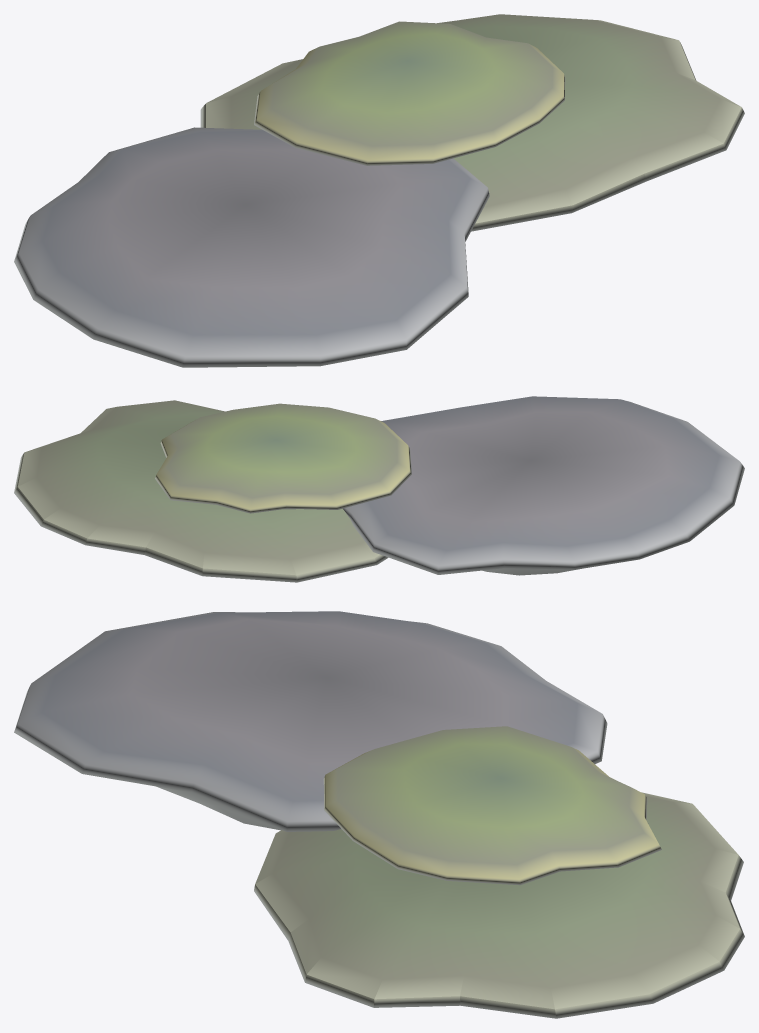
3 views of the same model, one above another, from view 1: azimuth 30°, elevation 25°; view 2: azimuth 150°, elevation 25°; view 3: azimuth 270°, elevation 25° (orthographic). The views are drawn at different scales.
Visible parts, largest first — view 1: G:\FFXIV-MapTools\exports\n4f6\bg\ex3\01_nvt_n4\fld\n4f6\bgp (×2); view 2: G:\FFXIV-MapTools\exports\n4f6\bg\ex3\01_nvt_n4\fld\n4f6\bgp (×3); view 3: G:\FFXIV-MapTools\exports\n4f6\bg\ex3\01_nvt_n4\fld\n4f6\bgp (×2).
Part boxes in pixels (x1,y1,x2,y2): G:\FFXIV-MapTools\exports\n4f6\bg\ex3\01_nvt_n4\fld\n4f6\bgp (×2): (14, 14, 744, 367); G:\FFXIV-MapTools\exports\n4f6\bg\ex3\01_nvt_n4\fld\n4f6\bgp (×3): (14, 396, 744, 582); G:\FFXIV-MapTools\exports\n4f6\bg\ex3\01_nvt_n4\fld\n4f6\bgp (×2): (14, 611, 744, 1018).
Bounding box in the file's own units: 28.82 × 4.66 × 22.52.
